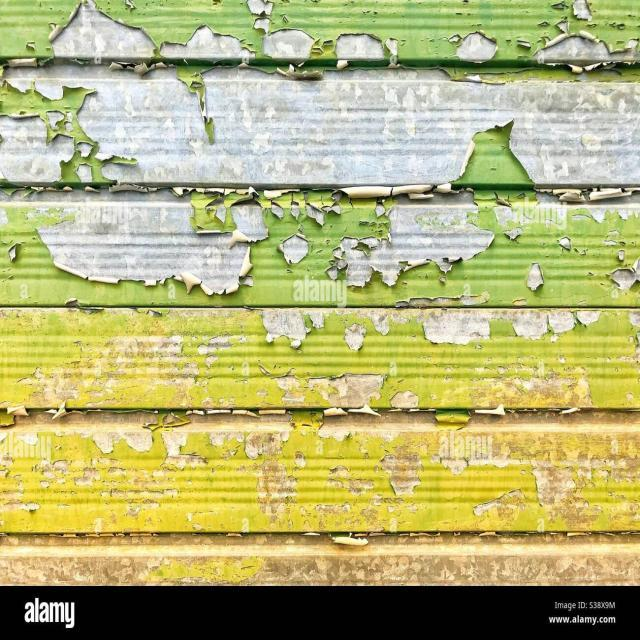Paint peeling: (5, 5, 638, 306), (13, 374, 633, 497), (262, 295, 609, 350)
